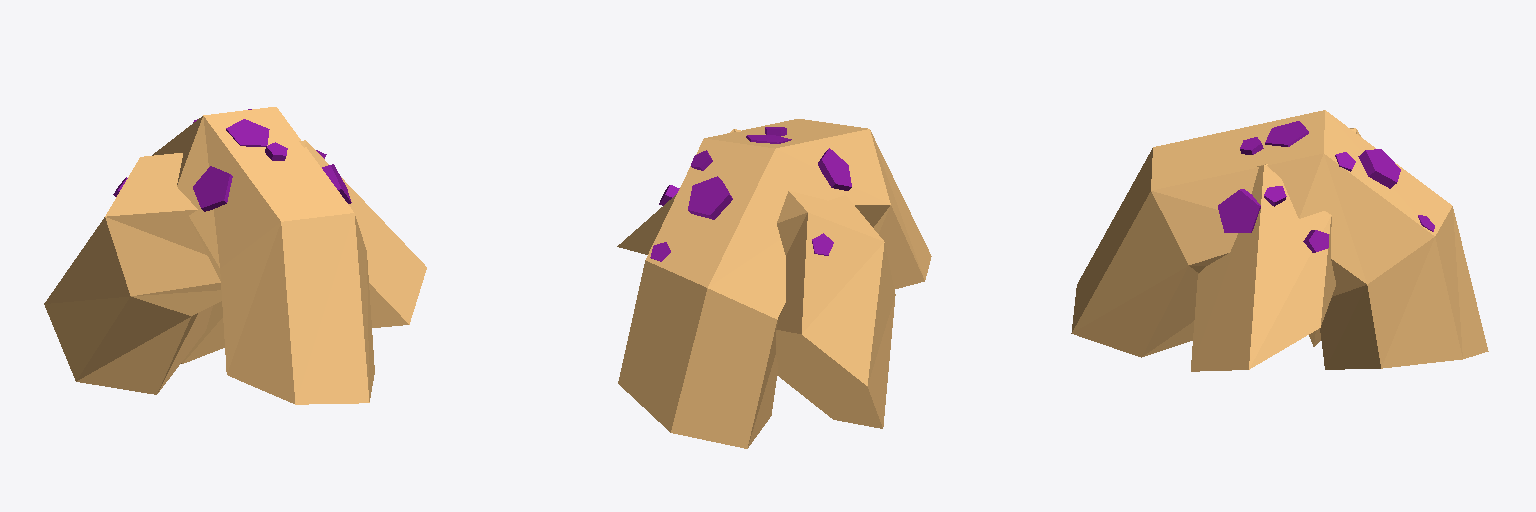
The picture shows the model from 3 angles: view 1: azimuth 30°, elevation 25°; view 2: azimuth 150°, elevation 25°; view 3: azimuth 270°, elevation 25°; orthographic projection.
Parts seen in each view (by area): view 1: group[number redacted], group[number redacted], group[number redacted], group[number redacted]; view 2: group[number redacted], group[number redacted], group[number redacted], group[number redacted]; view 3: group[number redacted], group[number redacted], group[number redacted], group[number redacted], group[number redacted].
Boxes of the visible parts, <box> form: group[number redacted]: <box>152,107,374,404</box>; group[number redacted]: <box>44,140,426,394</box>; group[number redacted]: <box>193,166,232,211</box>; group[number redacted]: <box>226,119,269,146</box>; group[number redacted]: <box>618,119,931,448</box>; group[number redacted]: <box>617,129,895,428</box>; group[number redacted]: <box>688,176,732,219</box>; group[number redacted]: <box>818,148,851,190</box>; group[number redacted]: <box>1071,110,1488,369</box>; group[number redacted]: <box>1191,128,1360,371</box>; group[number redacted]: <box>1218,189,1260,232</box>; group[number redacted]: <box>1358,149,1400,188</box>; group[number redacted]: <box>1265,121,1308,146</box>.
Size of the model in its own units: 0.1497 by 0.1207 by 0.1737.